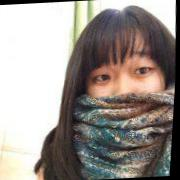WRONG: (80, 46, 171, 139)
